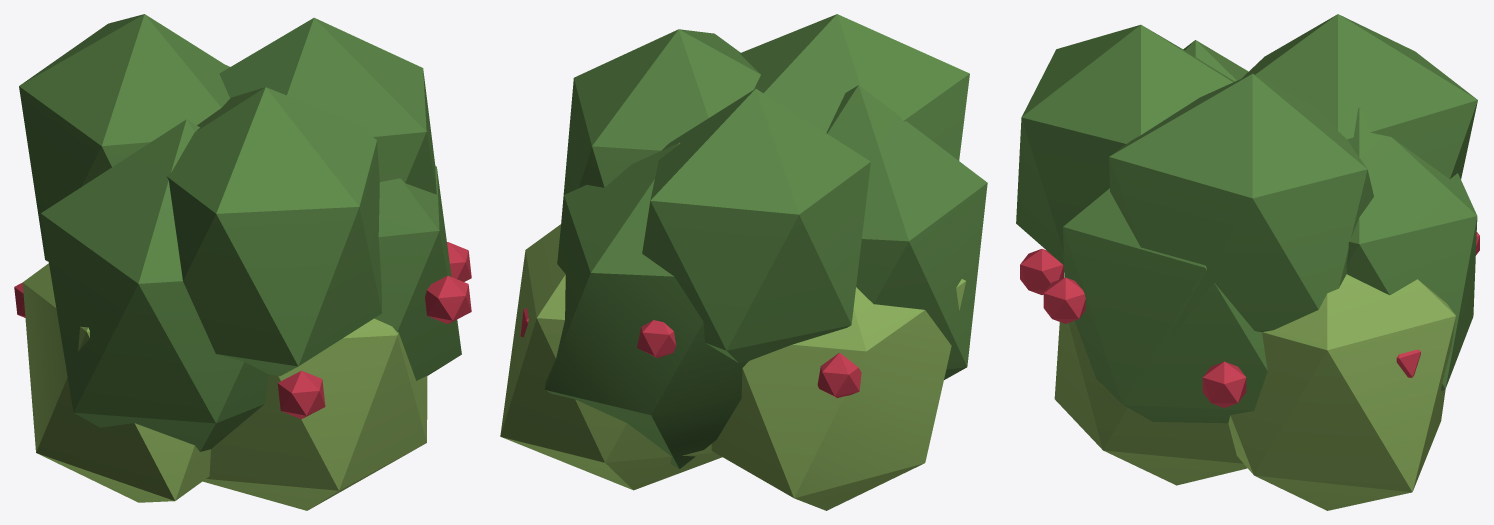
The model's file is bush_berry_c.glb.
3 renders of one model, left to right at view 1: azimuth 30°, elevation 25°; view 2: azimuth 150°, elevation 25°; view 3: azimuth 270°, elevation 25°, orthographic. The views are drawn at different scales.
Parts seen in each view (by area): view 1: bush_berry_c; view 2: bush_berry_c; view 3: bush_berry_c.
Boxes of the visible parts, box(x1,y1,x2,y2) form: bush_berry_c: box(14, 14, 471, 510); bush_berry_c: box(500, 14, 987, 510); bush_berry_c: box(1016, 14, 1479, 510).
Bounding box in the file's own units: 1.27 × 1.34 × 1.3.
